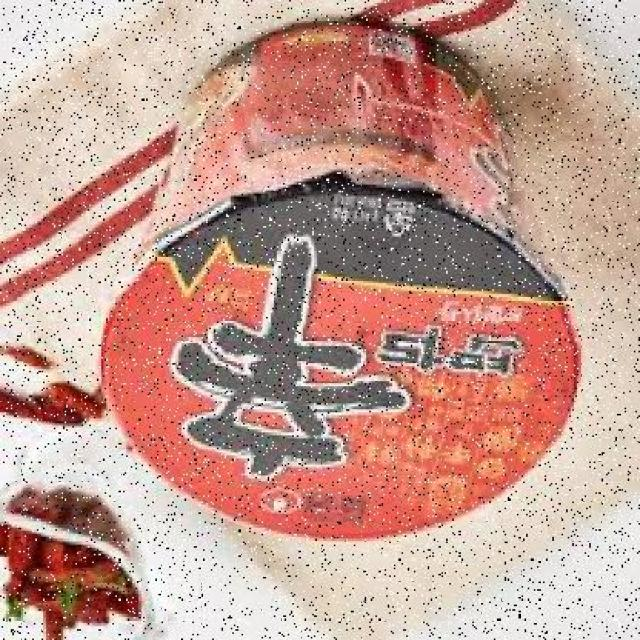Miscellaneous: (88, 31, 587, 564)
